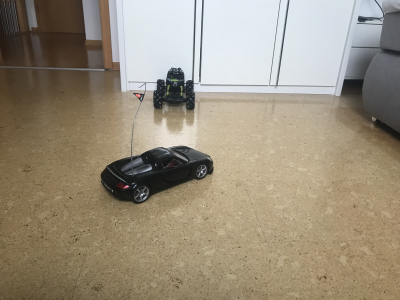remote control car: (149, 66, 196, 110)
